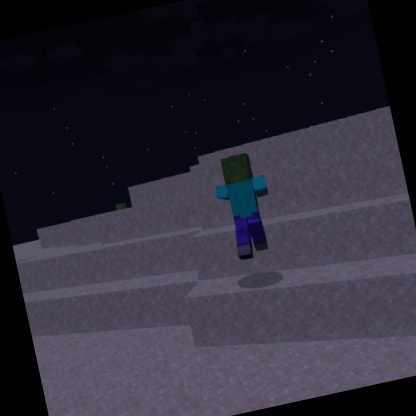zombie: (203, 145, 286, 267)
